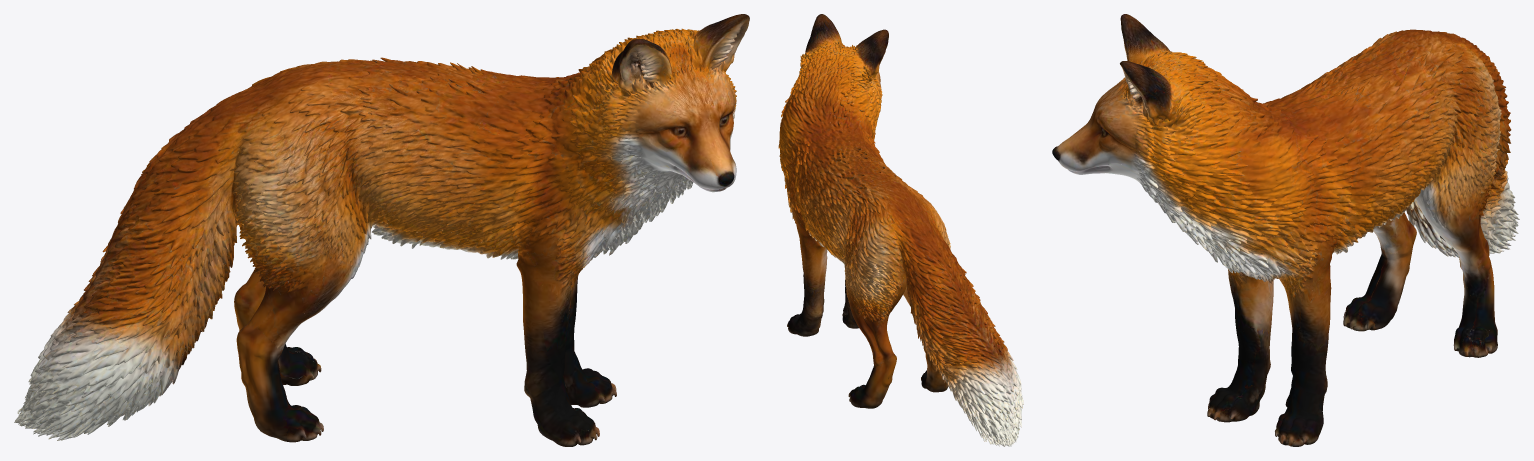
Rendered from fox.glb.
3 renders of one model, left to right at view 1: azimuth 30°, elevation 25°; view 2: azimuth 150°, elevation 25°; view 3: azimuth 270°, elevation 25°, orthographic. The views are drawn at different scales.
Visible parts, largest first — view 1: fox; view 2: fox; view 3: fox.
Part boxes in pixels (x1,y1,x2,y2): fox: (14,14,749,446); fox: (778,14,1023,446); fox: (1052,14,1519,446).
Size of the model in its own units: 0.9999 by 0.791 by 0.8203.
Materials: 1 (1 with a texture image).
